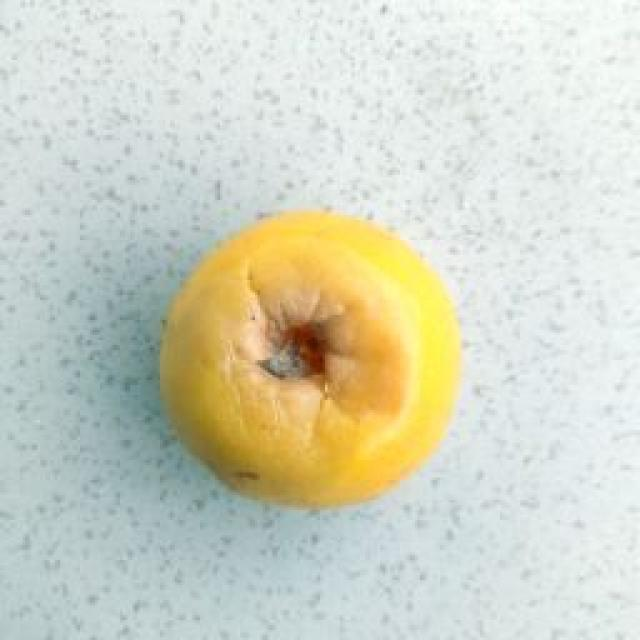Bad_Orange: (161, 211, 460, 507)
